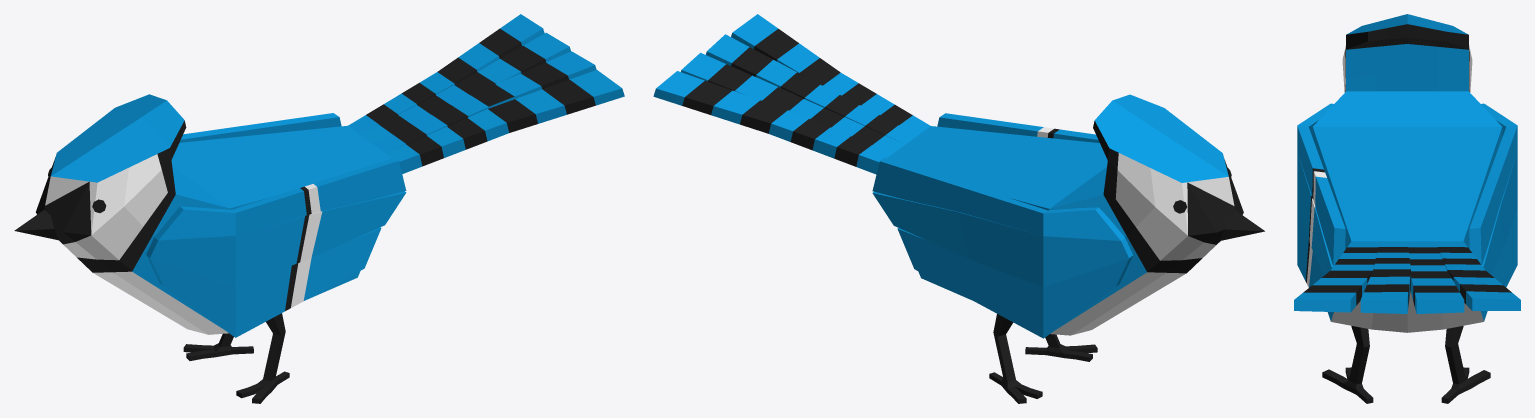
Rendered from Bird_01.obj.
The picture shows the model from 3 angles, left to right: view 1: azimuth 30°, elevation 25°; view 2: azimuth 150°, elevation 25°; view 3: azimuth 270°, elevation 25°; orthographic projection. The views are drawn at different scales.
Parts seen in each view (by area): view 1: Cube.034_Cube.035; view 2: Cube.034_Cube.035; view 3: Cube.034_Cube.035.
Boxes of the visible parts, x1,y1,x2,y2 form: Cube.034_Cube.035: (14,14,624,403); Cube.034_Cube.035: (653,14,1264,403); Cube.034_Cube.035: (1294,14,1520,403).
Bounding box in the file's own units: 386 × 189 × 120.
